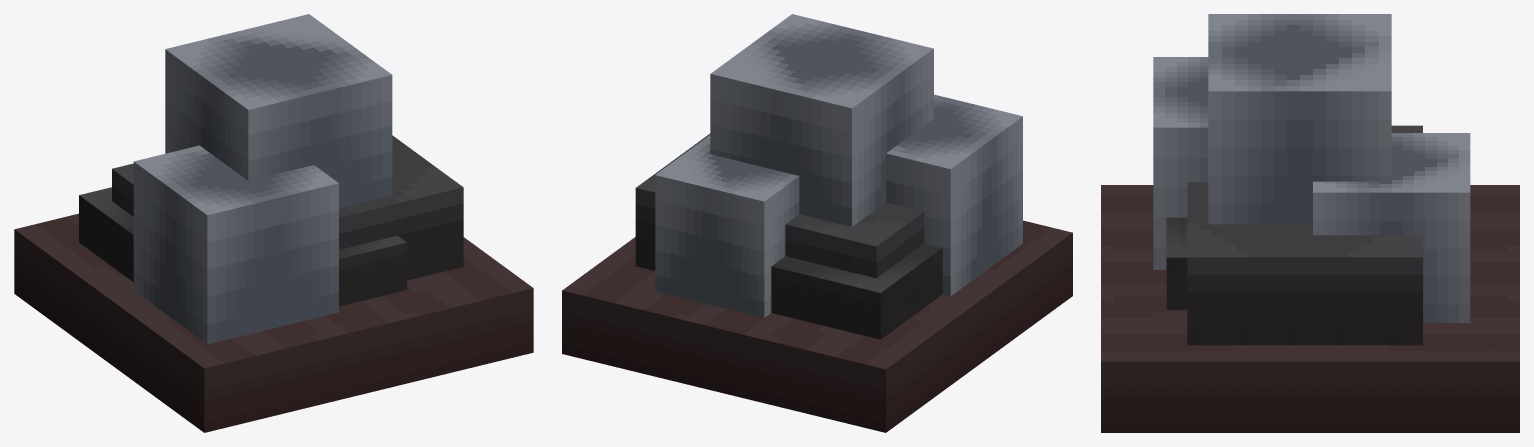
The model's file is tile_rock.gltf.
3 views of the same model, side by side, from view 1: azimuth 30°, elevation 25°; view 2: azimuth 150°, elevation 25°; view 3: azimuth 270°, elevation 25° (orthographic). The views are drawn at different scales.
Visible parts, largest first — view 1: cube (×5); view 2: cube (×6); view 3: cube (×6).
Part boxes in pixels (bbox=[...]): cube (×5): bbox=[14, 14, 533, 432]; cube (×6): bbox=[562, 14, 1072, 432]; cube (×6): bbox=[1101, 14, 1519, 432].
Bounding box in the file's own units: 1 × 0.8 × 1.
1 material, 1 textured.
